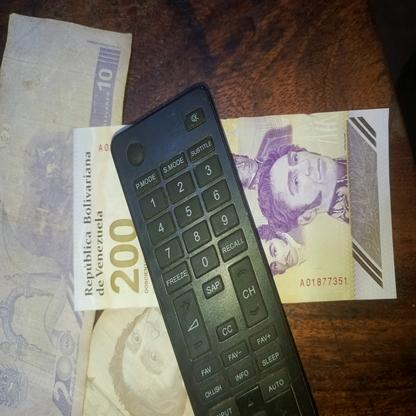five-front-vef: (85, 293, 212, 416)
ten-back-vef: (1, 11, 130, 416)
two_hundred-front-vef: (72, 108, 398, 310)
